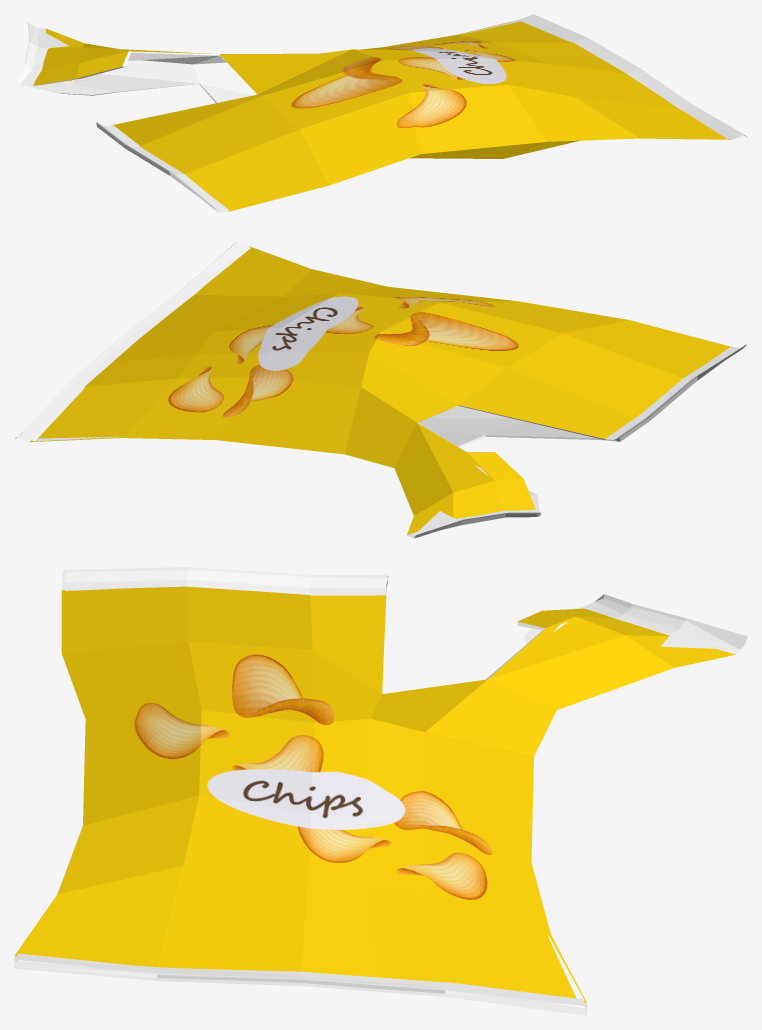
Rendered from chips-yellow.gltf.
3 renders of one model, top to bottom at view 1: azimuth 30°, elevation 25°; view 2: azimuth 150°, elevation 25°; view 3: azimuth 270°, elevation 25°, orthographic. The views are drawn at different scales.
Visible parts, largest first — view 1: Cube; view 2: Cube; view 3: Cube.
Boxes of the visible parts, x1,y1,x2,y2 form: Cube: [14, 14, 747, 212]; Cube: [15, 241, 746, 538]; Cube: [14, 567, 747, 1015].
Size of the model in its own units: 0.6632 by 0.1194 by 0.6029.
2 materials, 1 textured.
